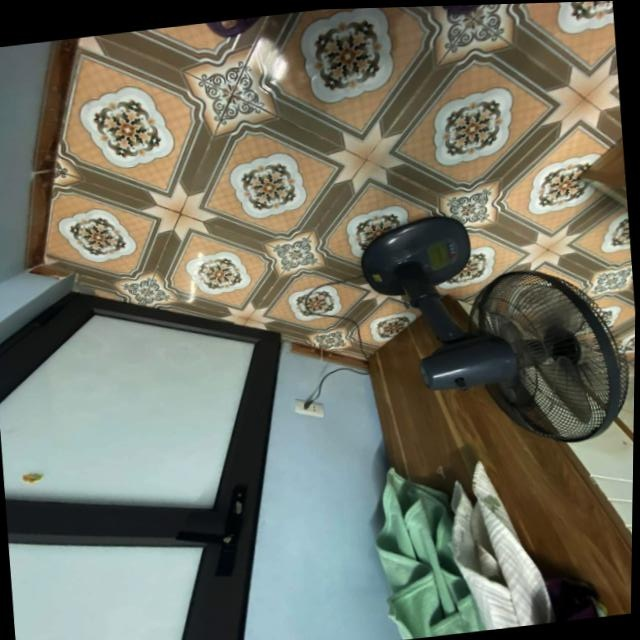outlet: (294, 394, 326, 420)
